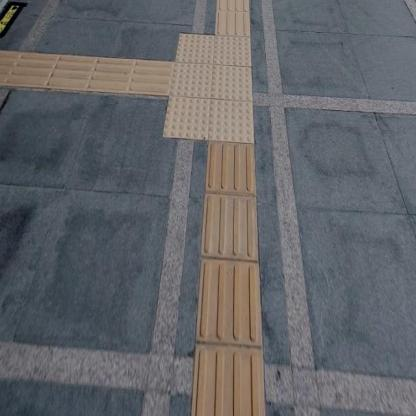podotacti: (190, 143, 270, 415), (155, 10, 271, 174), (0, 45, 168, 98), (218, 0, 253, 33)
